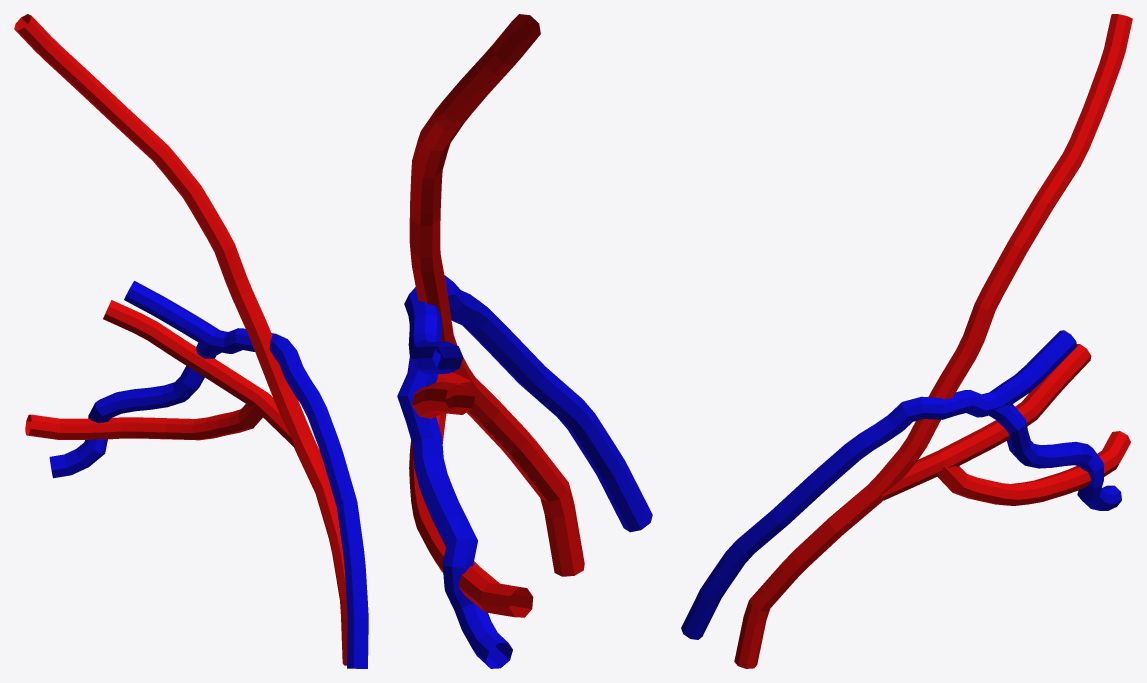
Rendered from vasavasorum.fbx.
3 renders of one model, left to right at view 1: azimuth 30°, elevation 25°; view 2: azimuth 150°, elevation 25°; view 3: azimuth 270°, elevation 25°, orthographic. The views are drawn at different scales.
Parts seen in each view (by area): view 1: OUT_VasaVasorum; view 2: OUT_VasaVasorum; view 3: OUT_VasaVasorum.
Part boxes in pixels (bbox=[...]): OUT_VasaVasorum: bbox=[14, 14, 368, 668]; OUT_VasaVasorum: bbox=[397, 14, 652, 668]; OUT_VasaVasorum: bbox=[681, 14, 1132, 668].
Bounding box in the file's own units: 0.7533 × 2.18 × 1.55.
